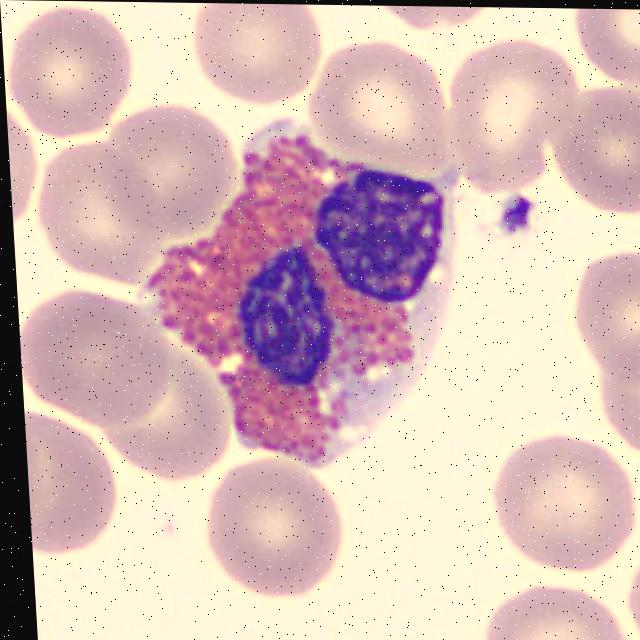eosinophil: (128, 137, 474, 476)
rbc: (195, 447, 352, 609), (17, 290, 177, 441), (298, 38, 461, 177), (443, 43, 572, 203), (485, 440, 640, 569), (31, 138, 163, 286), (96, 348, 238, 485), (2, 3, 134, 138), (24, 404, 125, 567), (102, 119, 229, 241), (194, 3, 328, 102), (453, 568, 634, 640), (543, 88, 640, 218), (571, 241, 640, 387), (574, 330, 640, 473), (568, 9, 640, 95), (6, 99, 44, 237), (365, 6, 516, 39), (619, 521, 640, 640)
